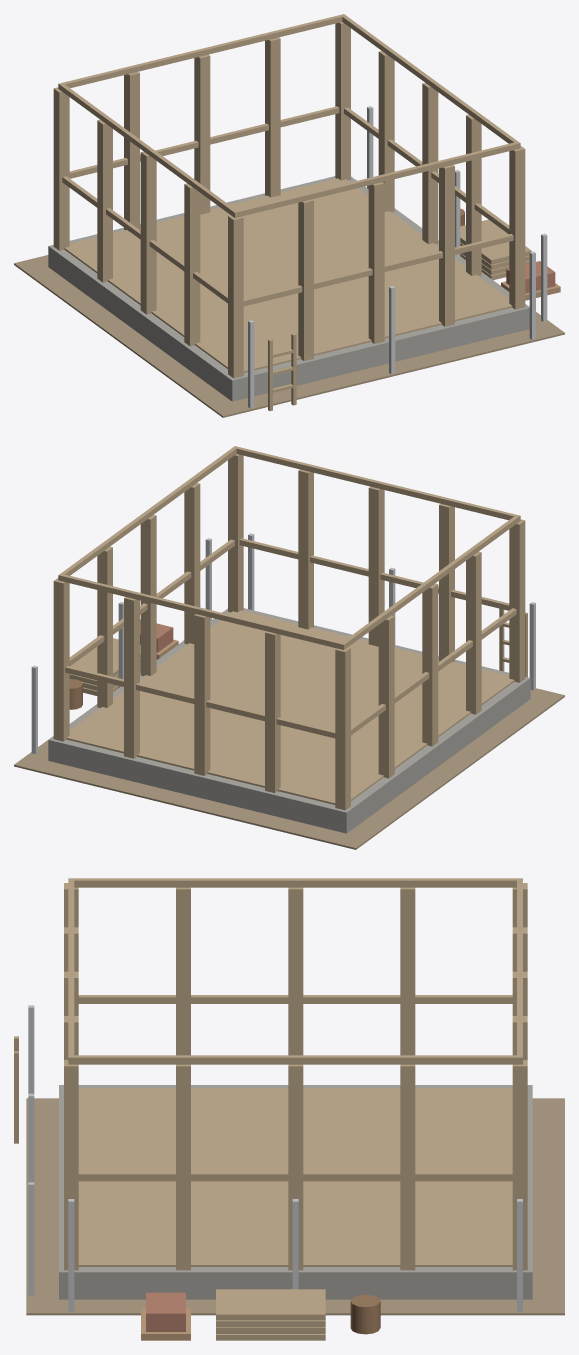
File: bakery_site_4.glb
The picture shows the model from 3 angles, top to bottom: view 1: azimuth 30°, elevation 25°; view 2: azimuth 150°, elevation 25°; view 3: azimuth 270°, elevation 25°; orthographic projection. The views are drawn at different scales.
Parts seen in each view (by area): view 1: body; view 2: body; view 3: body.
Boxes of the visible parts, x1,y1,x2,y2 form: body: [14, 14, 564, 417]; body: [14, 446, 564, 849]; body: [14, 878, 564, 1340].
Bounding box in the file's own units: 2.28 × 1.06 × 2.21.
